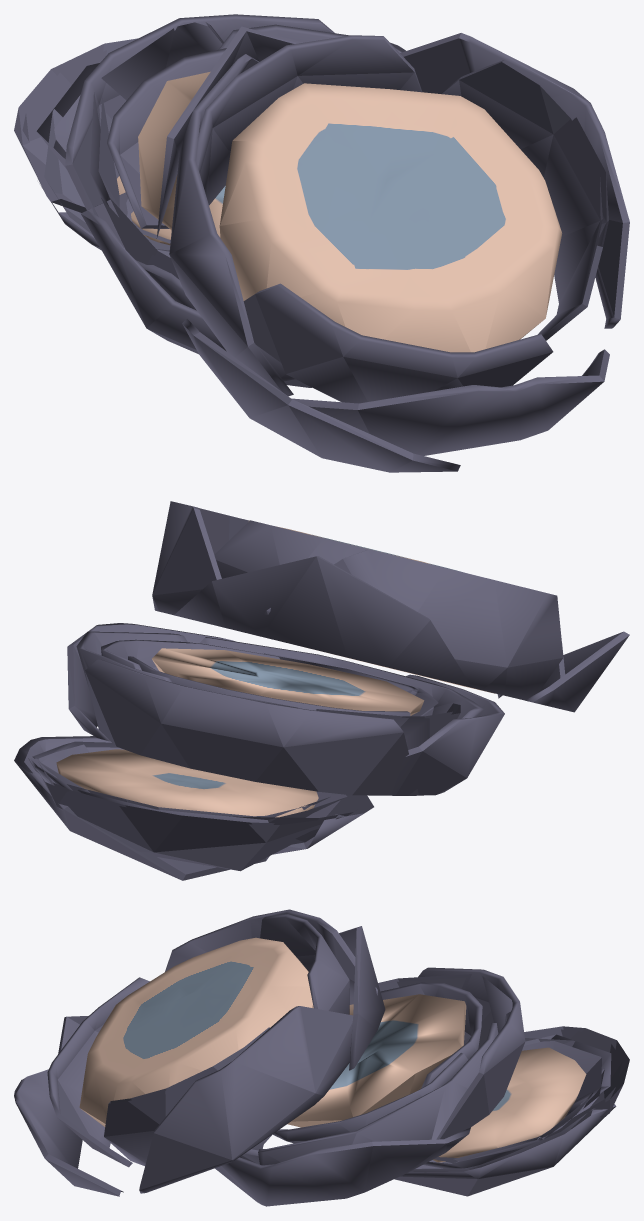
File: Cabbage_Cutted.fbx
3 views of the same model, one above another, from view 1: azimuth 30°, elevation 25°; view 2: azimuth 150°, elevation 25°; view 3: azimuth 270°, elevation 25° (orthographic). The views are drawn at different scales.
Visible parts, largest first — view 1: Cabbage_Cutted; view 2: Cabbage_Cutted; view 3: Cabbage_Cutted.
Boxes of the visible parts, left/top/right/bottom form: Cabbage_Cutted: left=14, top=14, right=629, bottom=472; Cabbage_Cutted: left=14, top=501, right=629, bottom=880; Cabbage_Cutted: left=14, top=909, right=629, bottom=1206.
Bounding box in the file's own units: 20.77 × 33.9 × 13.69.
